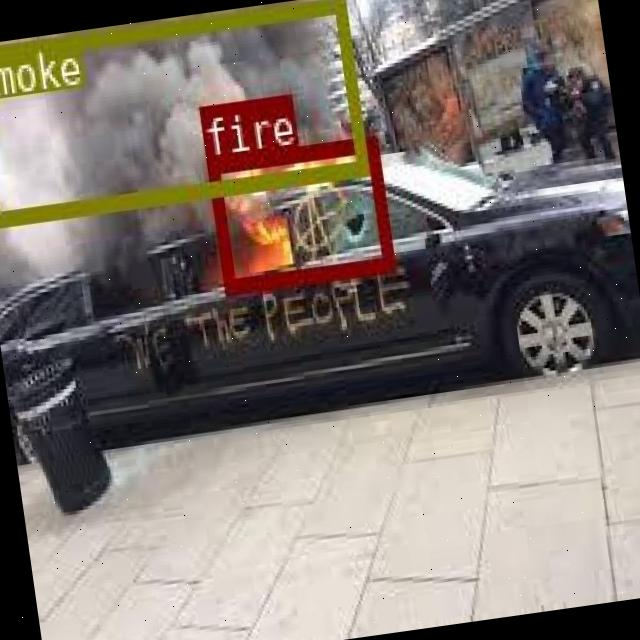fire: (205, 133, 392, 293)
smoke: (0, 0, 366, 223)
